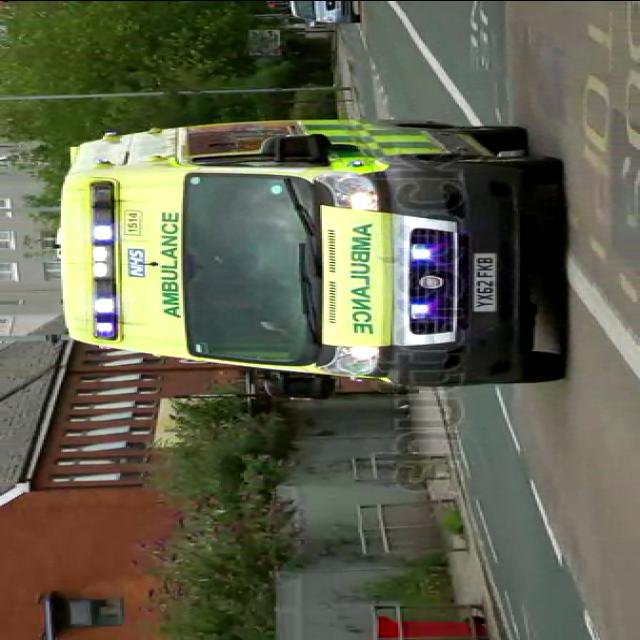ambulance: (59, 118, 566, 400)
